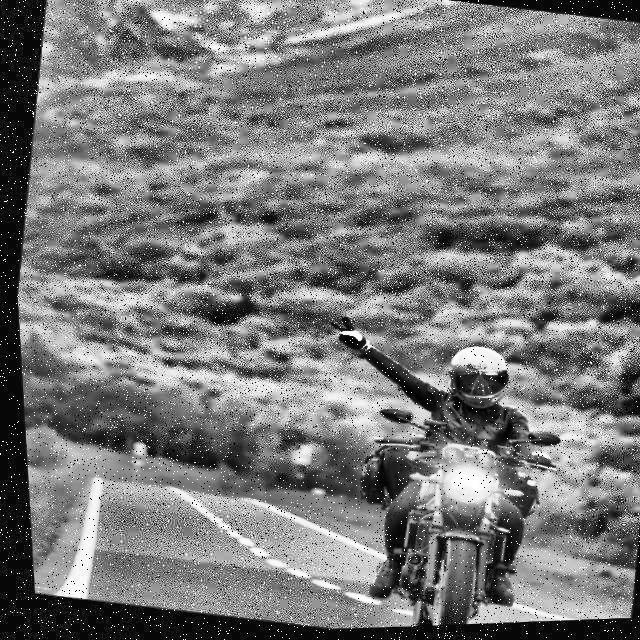Helmet: (434, 342, 514, 421)
